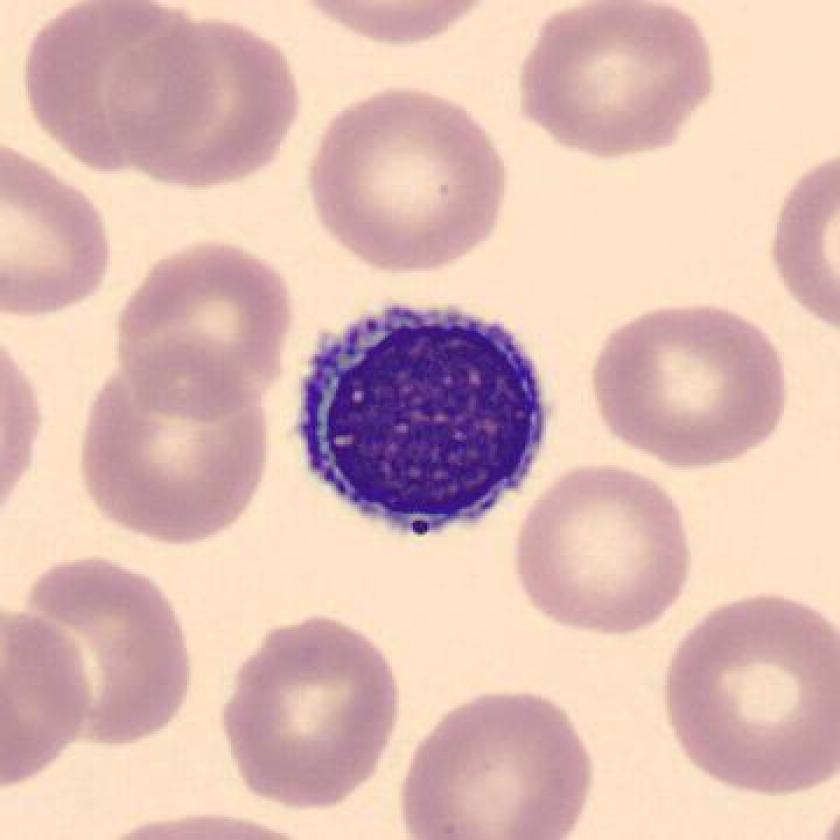lymphocyte: (290, 295, 552, 552)
